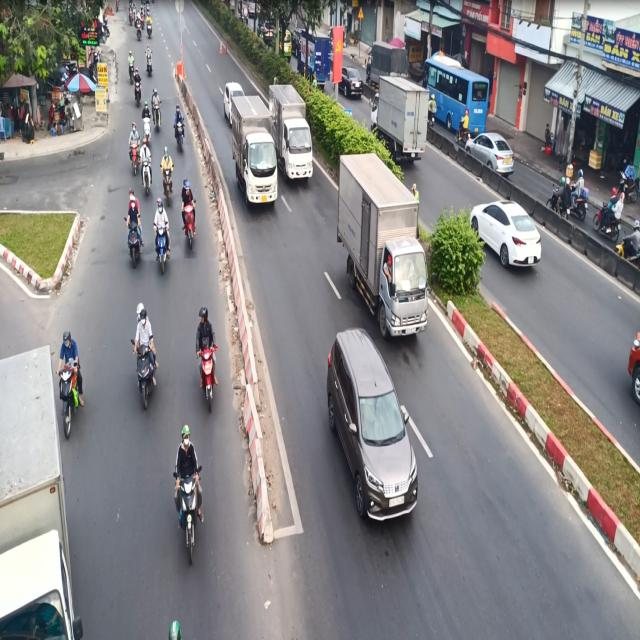car: (321, 325, 423, 542)
motor: (173, 416, 202, 568), (56, 328, 89, 438), (126, 302, 158, 404), (195, 302, 221, 416), (151, 196, 174, 272), (126, 188, 144, 270), (180, 177, 198, 254), (172, 106, 187, 156)
truck: (336, 147, 431, 337), (232, 99, 277, 212), (272, 82, 319, 188)
